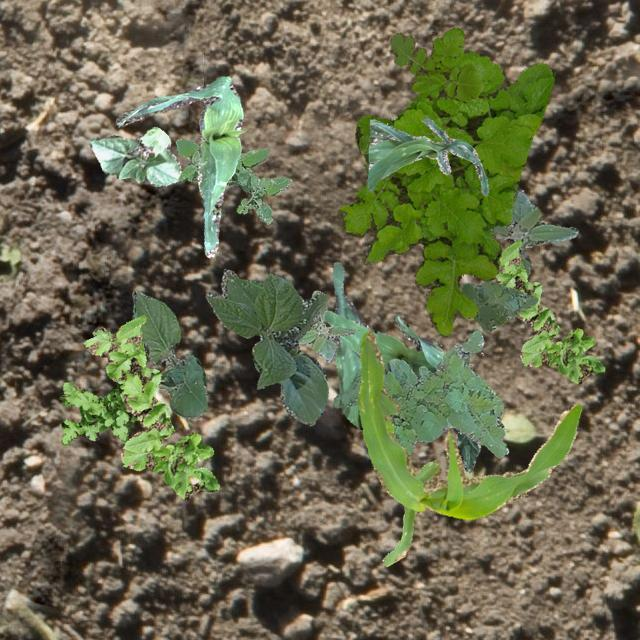crop: (357, 327, 580, 566), (115, 76, 242, 256), (205, 268, 326, 424), (332, 262, 396, 434), (130, 290, 207, 418), (367, 116, 488, 194), (322, 308, 443, 381), (88, 126, 180, 186), (451, 426, 479, 472)
weed: (336, 48, 554, 334), (82, 314, 218, 498), (332, 329, 508, 456), (489, 238, 604, 382), (175, 138, 292, 224), (58, 326, 140, 444), (488, 188, 576, 276), (390, 27, 482, 102), (296, 290, 354, 360), (459, 278, 536, 330)
